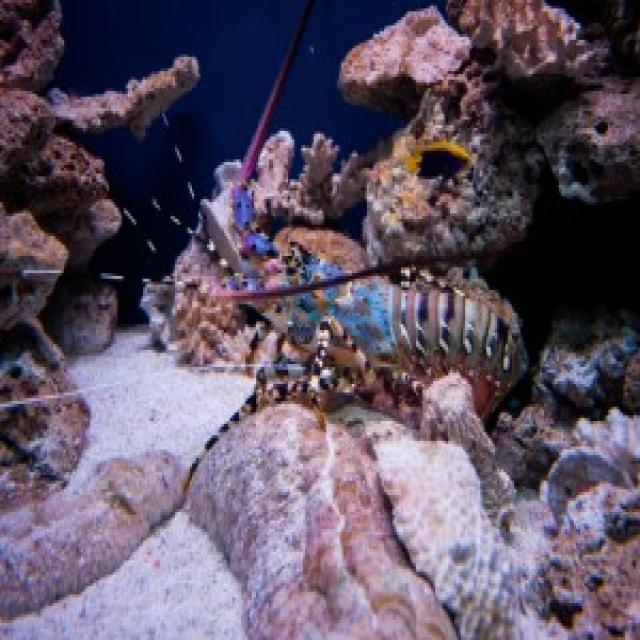lobsters: (228, 251, 527, 431)
